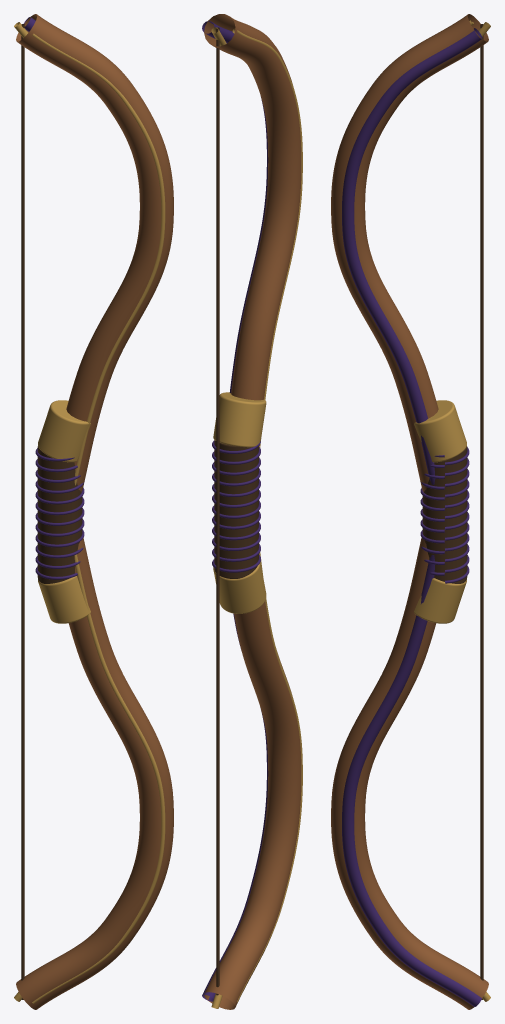
The model's file is fairy_bow.glb.
The picture shows the model from 3 angles, left to right: view 1: azimuth 90°, elevation 25°; view 2: azimuth 150°, elevation 25°; view 3: azimuth 270°, elevation 25°; orthographic projection.
Parts seen in each view (by area): view 1: Recurved yew limb.001, Recurved yew limb, Contoured leather grip, Bowstring, Brass limb socket.001, Raised brass edge, Raised brass edge.001, Brass limb socket; view 2: Recurved yew limb, Recurved yew limb.001, Contoured leather grip, Bowstring, Brass limb socket.001, Brass limb socket, Raised brass edge.001, Raised brass edge, Lacquered limb backing.001, Lacquered limb backing; view 3: Recurved yew limb.001, Recurved yew limb, Lacquered limb backing.001, Lacquered limb backing, Contoured leather grip, Bowstring, Brass limb socket.001, Brass limb socket.
Boxes of the visible parts, box(x1,y1,x2,y2) form: Recurved yew limb.001: box(16, 14, 173, 492); Recurved yew limb: box(16, 538, 173, 1009); Contoured leather grip: box(37, 446, 82, 583); Bowstring: box(21, 24, 24, 999); Brass limb socket.001: box(38, 400, 90, 462); Raised brass edge: box(32, 554, 165, 1003); Raised brass edge.001: box(32, 33, 165, 485); Brass limb socket: box(38, 576, 90, 623); Recurved yew limb: box(204, 602, 301, 1009); Recurved yew limb.001: box(204, 14, 301, 400); Contoured leather grip: box(214, 440, 258, 578); Bowstring: box(216, 27, 219, 995); Brass limb socket.001: box(213, 392, 266, 447); Brass limb socket: box(213, 562, 266, 613); Raised brass edge.001: box(232, 28, 302, 457); Raised brass edge: box(237, 543, 302, 1002); Lacquered limb backing.001: box(202, 21, 268, 393); Lacquered limb backing: box(202, 613, 268, 1001); Recurved yew limb.001: box(331, 14, 488, 492); Recurved yew limb: box(331, 537, 488, 1009); Lacquered limb backing.001: box(342, 28, 482, 485); Lacquered limb backing: box(342, 555, 481, 1006); Contoured leather grip: box(422, 446, 467, 583); Bowstring: box(480, 24, 483, 999); Brass limb socket.001: box(414, 400, 466, 462); Brass limb socket: box(414, 578, 466, 623).
Size of the model in its own units: 0.0659 by 1.48 by 0.2157.
